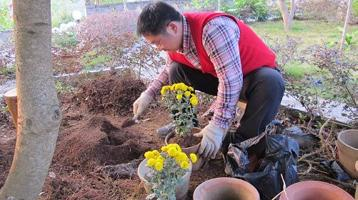person: (132, 3, 286, 160)
